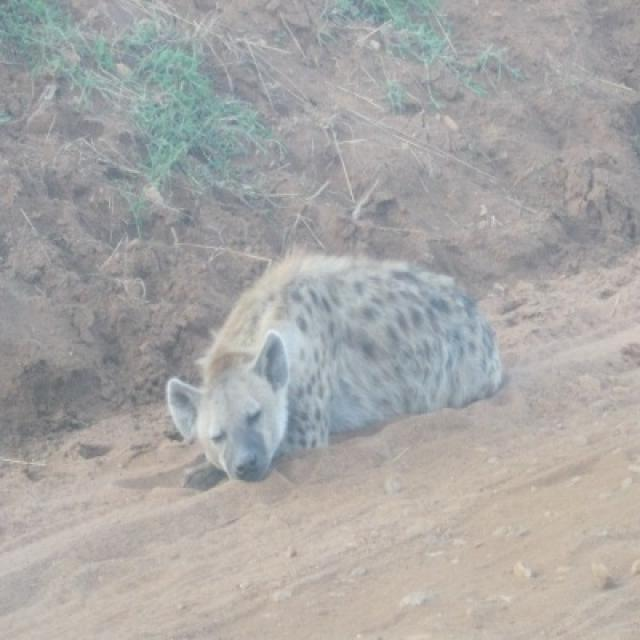hyena: (166, 253, 510, 491)
